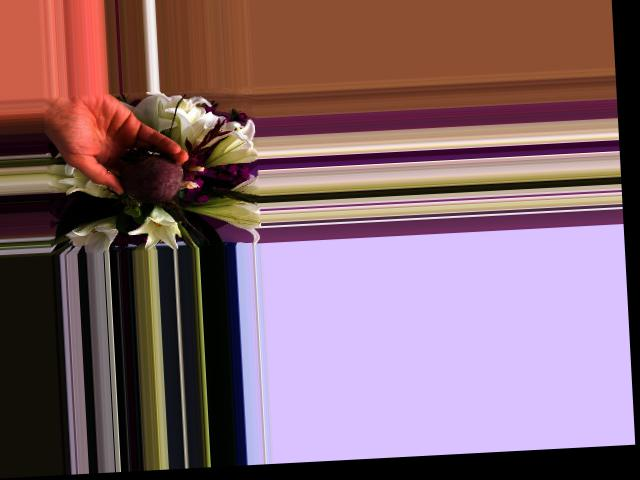beet: (118, 144, 211, 248)
